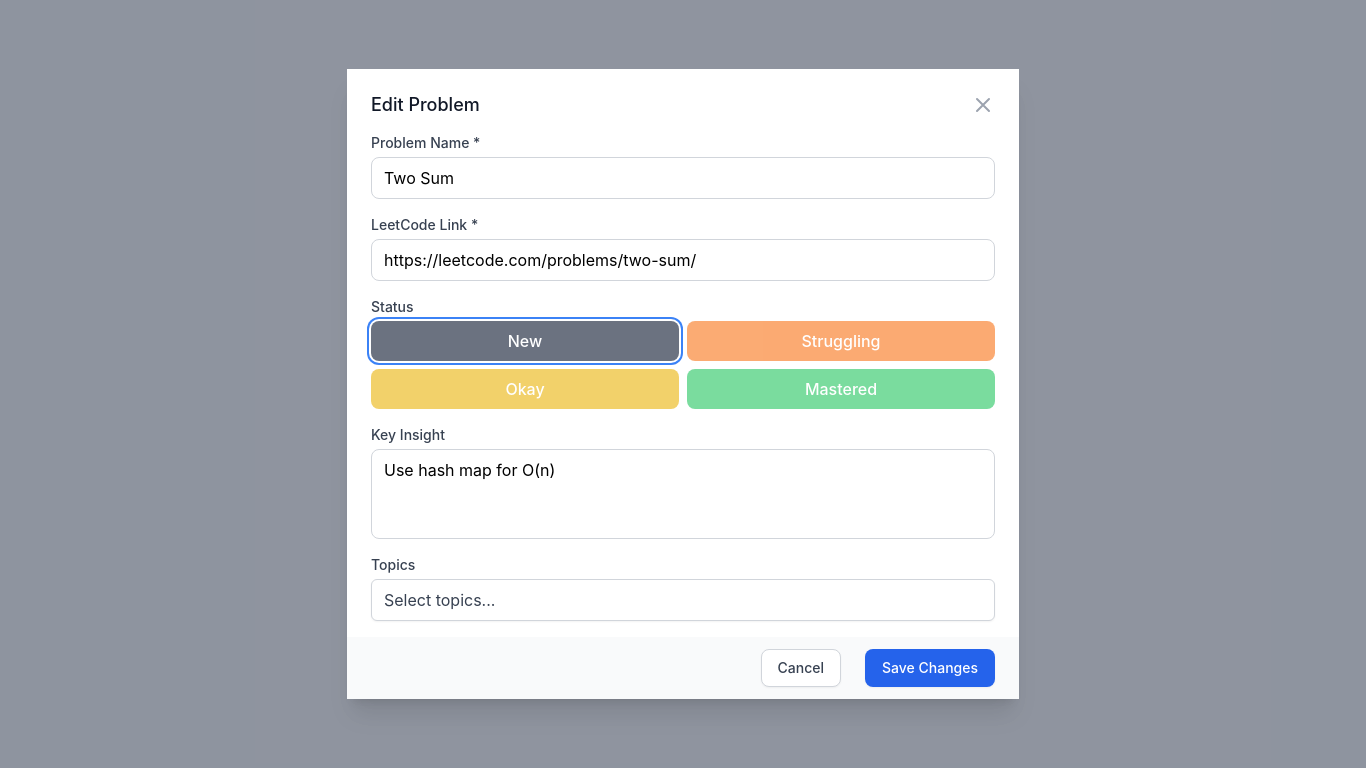
Test: EditProblemModal › Save functionality › should show error message on save failure
In the field labelled "Problem Name *": (683, 178) [371,157,995,199], type "New Name"
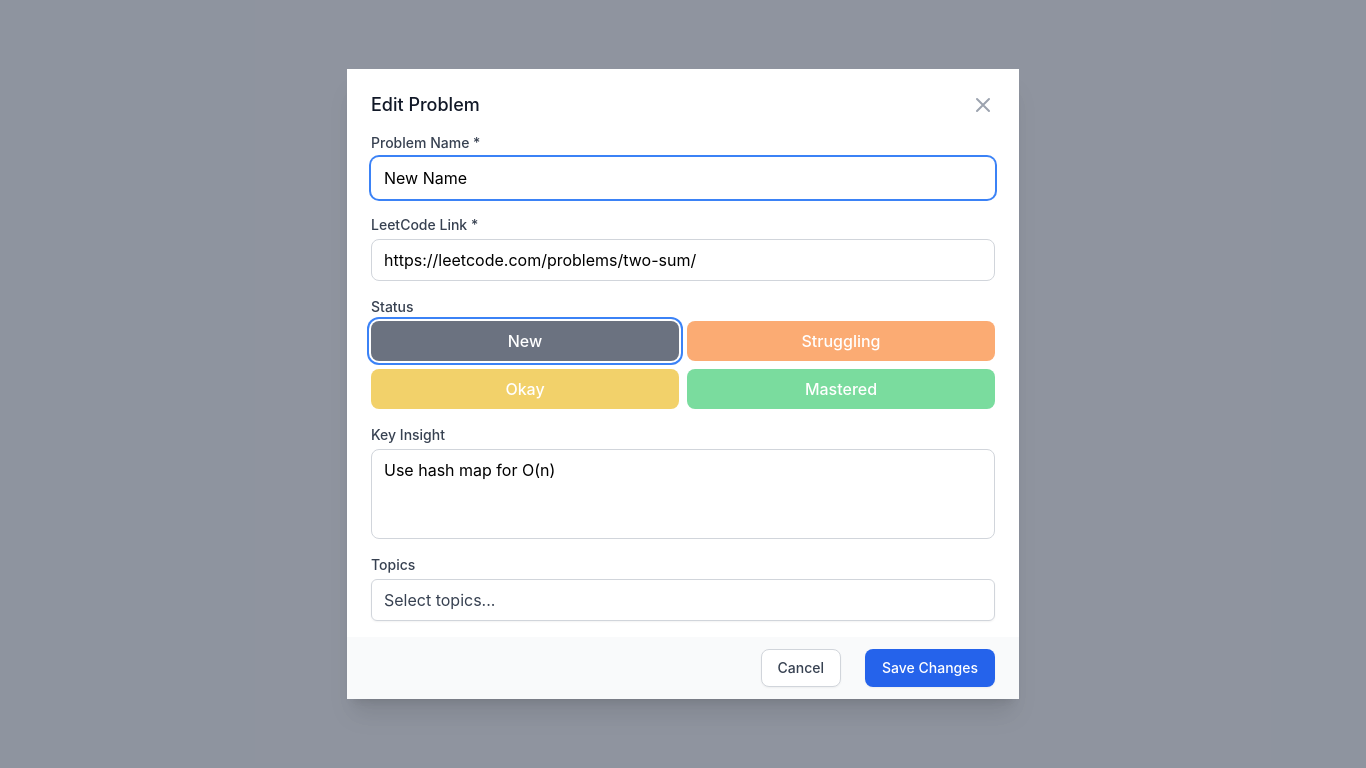
Click the button "Save Changes": (930, 668) [865,649,995,687]
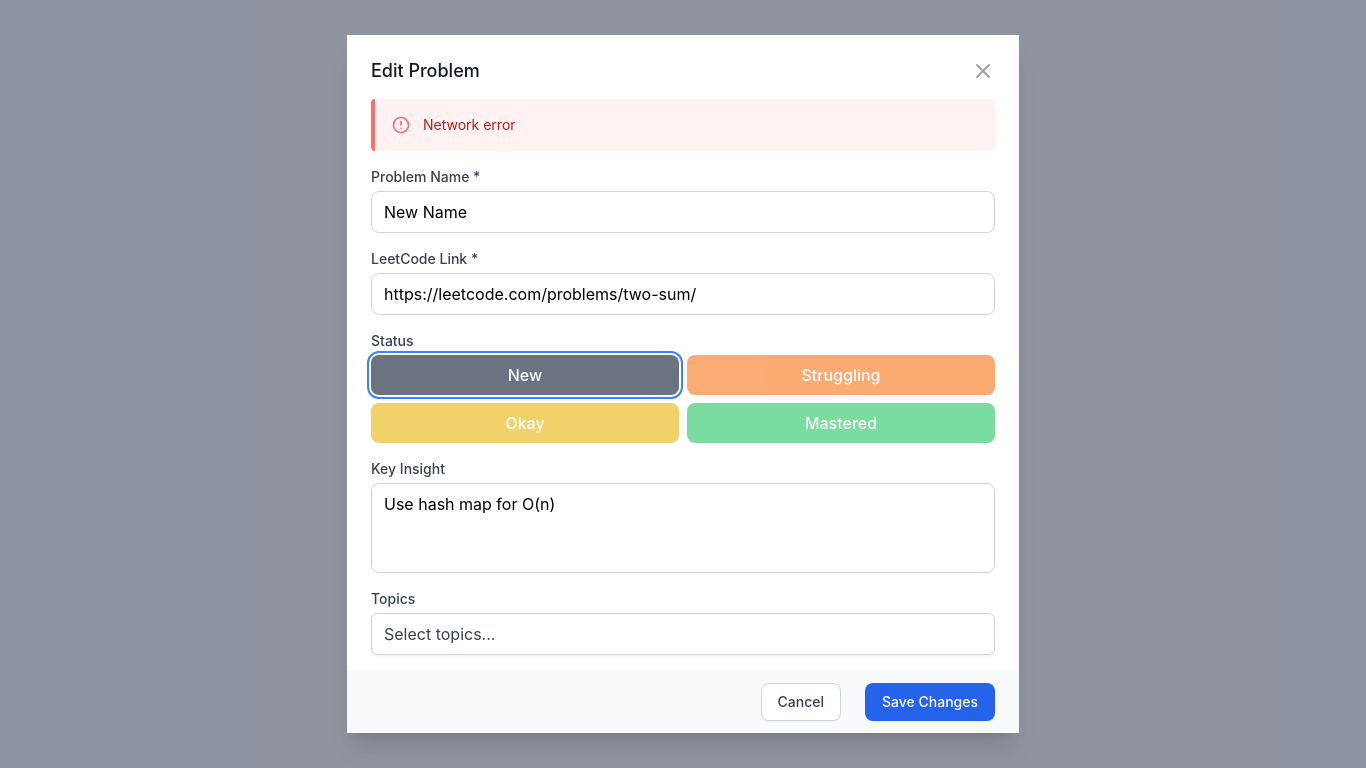
Result: the text "Network error" is shown at [423,115,516,135]
